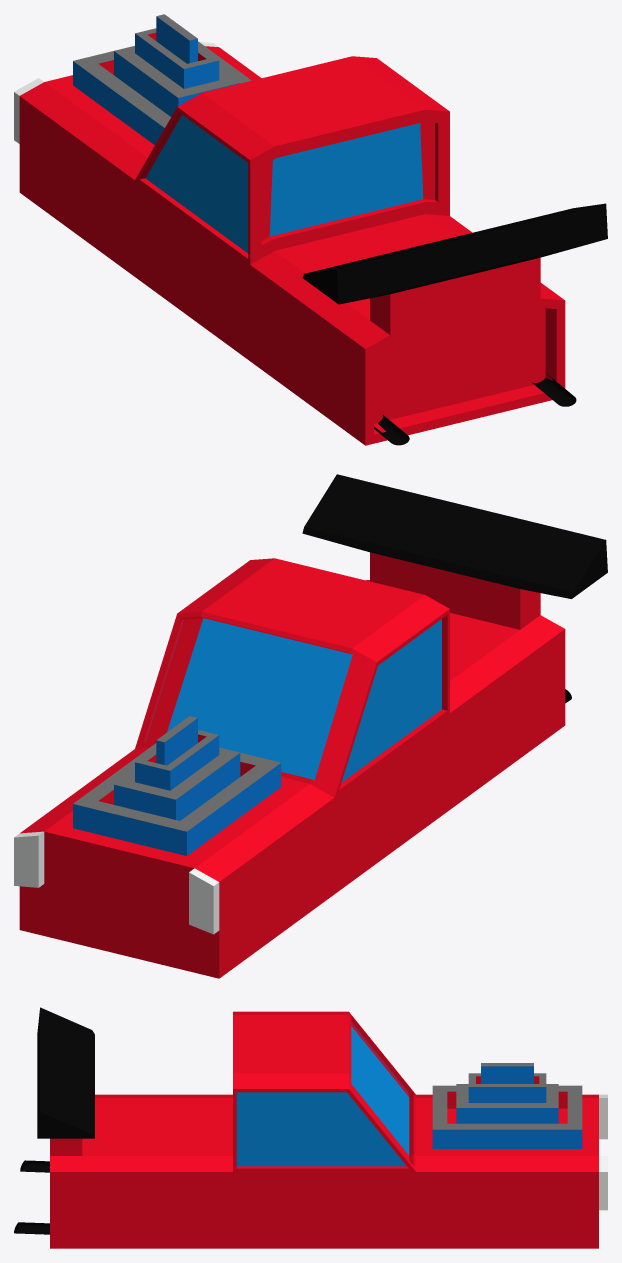
File: barin_car_mesh.glb
3 renders of one model, top to bottom at view 1: azimuth 30°, elevation 25°; view 2: azimuth 150°, elevation 25°; view 3: azimuth 270°, elevation 25°, orthographic. The views are drawn at different scales.
Parts seen in each view (by area): view 1: car; view 2: car; view 3: car.
Boxes of the visible parts, box(x1,y1,x2,y2) form: car: box(14, 14, 607, 445); car: box(14, 474, 607, 978); car: box(14, 1007, 607, 1248).
Bounding box in the file's own units: 2.97 × 2.2 × 7.16.
